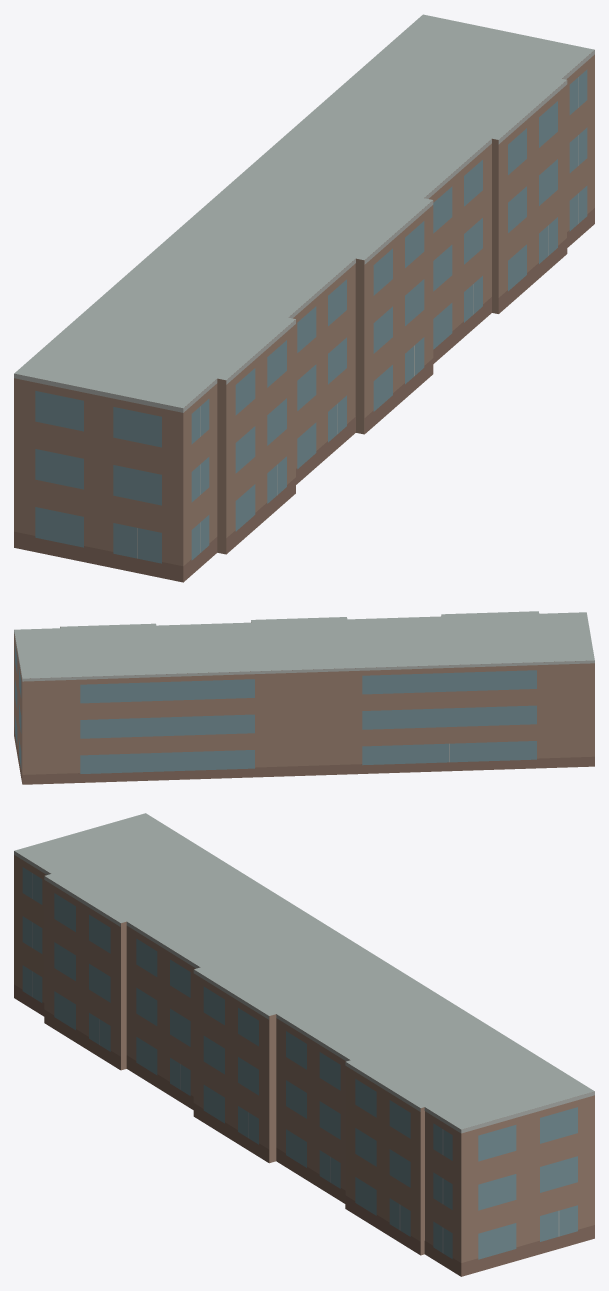
The model's file is survey-upis-32799789.glb.
The picture shows the model from 3 angles, top to bottom: view 1: azimuth 30°, elevation 25°; view 2: azimuth 150°, elevation 25°; view 3: azimuth 270°, elevation 25°; orthographic projection. The views are drawn at different scales.
Parts seen in each view (by area): view 1: survey-upis-32799789.tmp; view 2: survey-upis-32799789.tmp; view 3: survey-upis-32799789.tmp.
Part boxes in pixels (<box>): survey-upis-32799789.tmp: <box>14,14,594,582</box>; survey-upis-32799789.tmp: <box>14,611,594,784</box>; survey-upis-32799789.tmp: <box>14,813,594,1276</box>.
Bounding box in the file's own units: 42.19 × 9.15 × 32.72.
